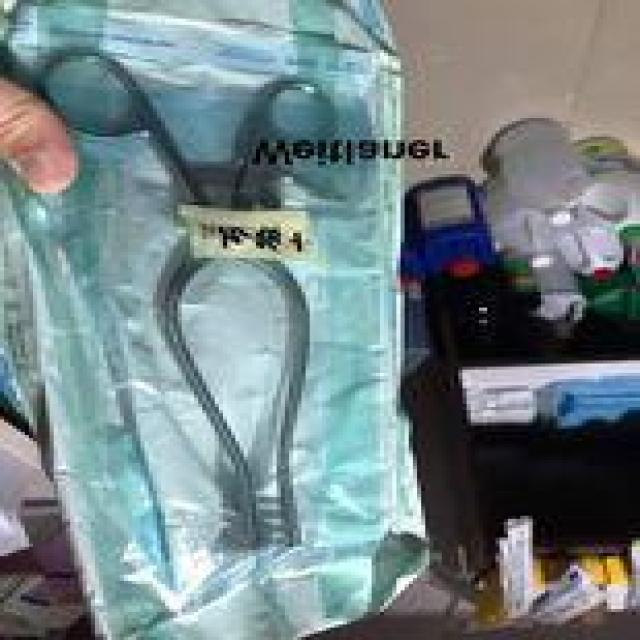Weitlaner: (29, 41, 368, 560)
